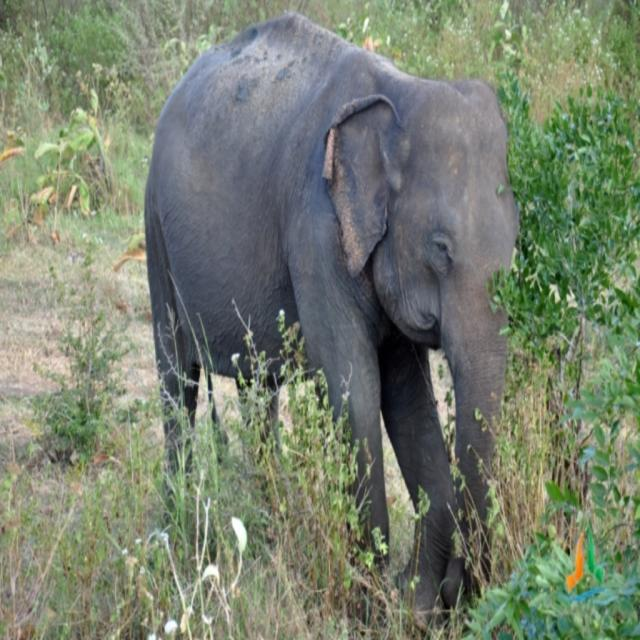Elephant: (142, 10, 520, 632)
